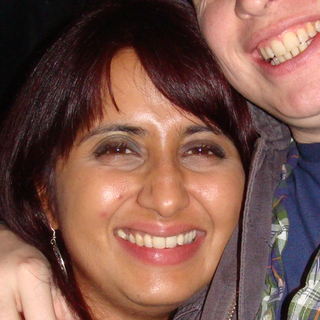eye: (86, 138, 141, 166), (174, 141, 225, 166)
